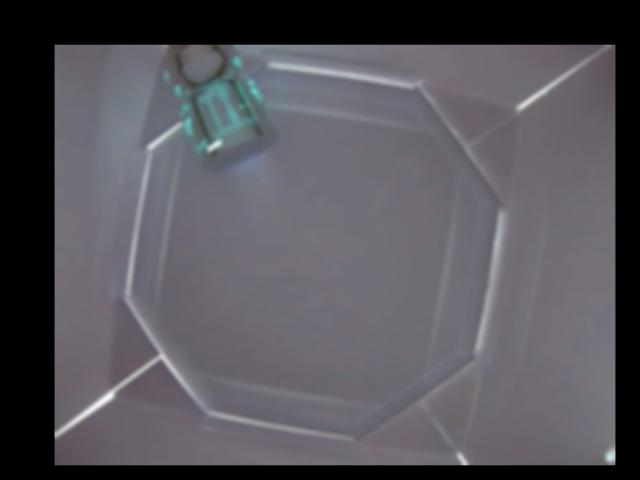Bottle: (159, 45, 278, 173)
